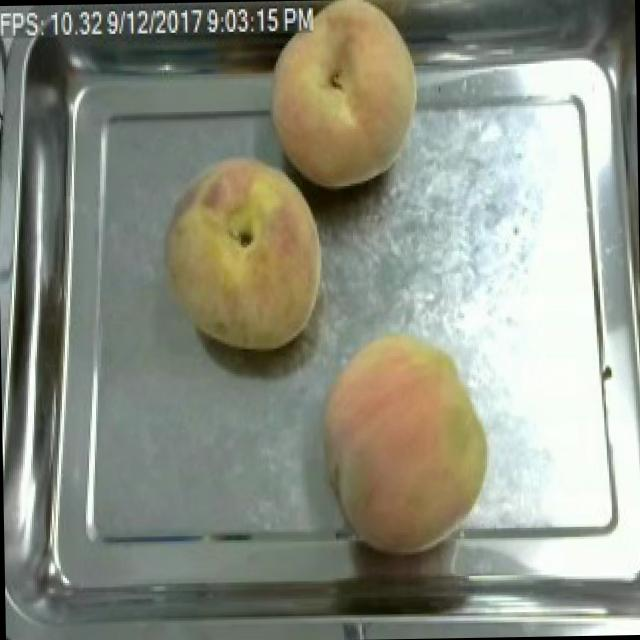Fruit: (310, 328, 500, 560), (155, 144, 333, 360), (258, 0, 429, 197)
